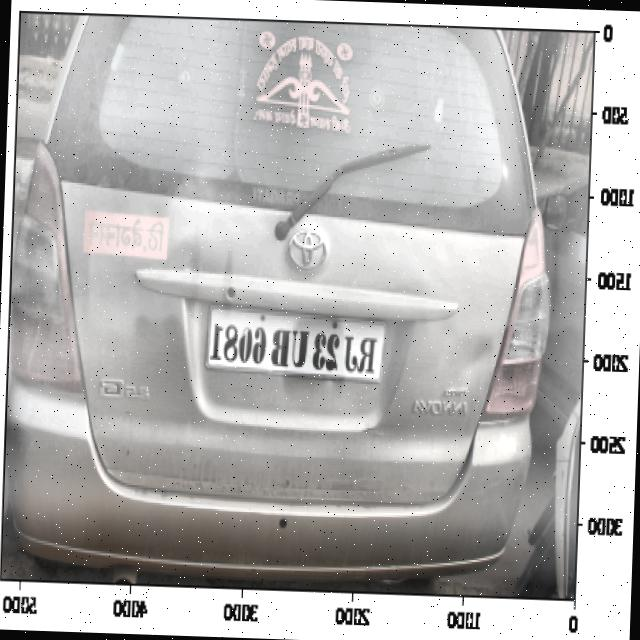license_plate: (205, 314, 380, 380)
